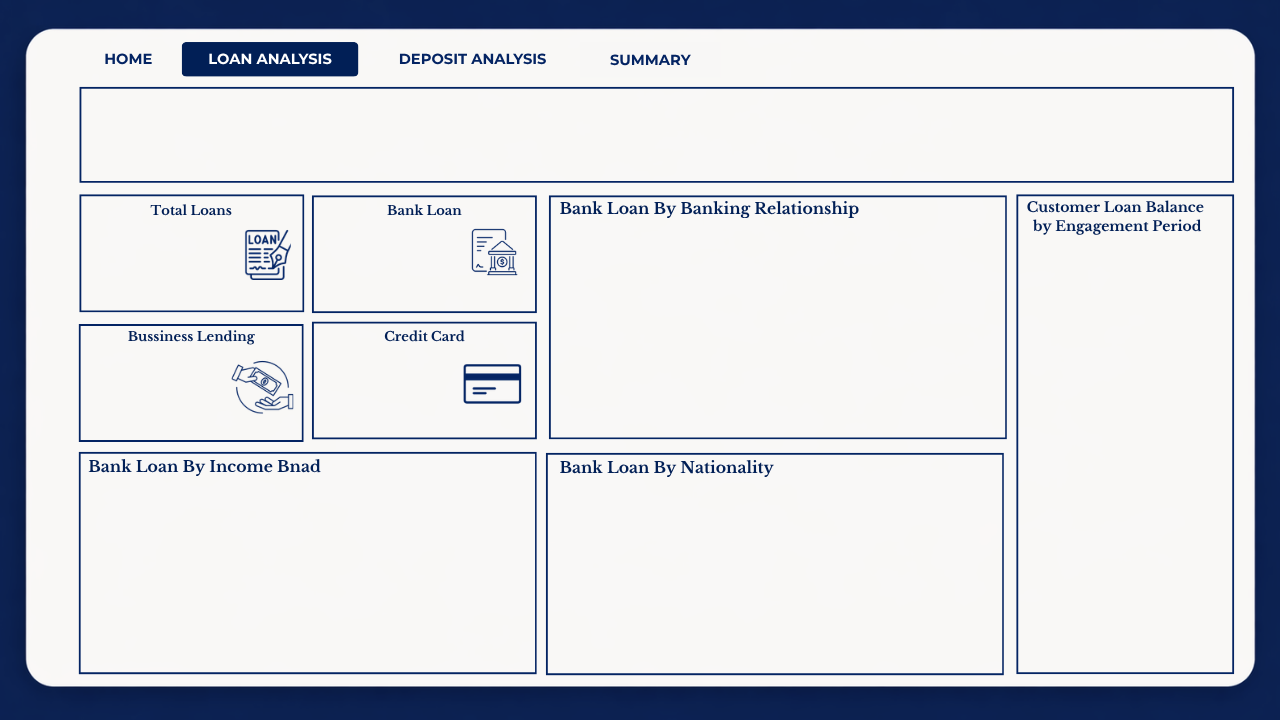

What the dashboard file says about the page in this screenshot:
{"tool":"powerbi","page":{"name":"Loan Analysis","canvas":[1280,720],"ordinal":1},"visuals":[{"type":"card","fields":{"Values":["public customer.Total Loans"]},"box":[75.3,214.8,172.8,71.6],"z":0},{"type":"card","fields":{"Values":["Sum(public customer.Bank Loans)"]},"box":[306.7,216,172.8,72],"z":1000},{"type":"card","fields":{"Values":["Sum(public customer.Business Lending)"]},"box":[76.3,342.7,172.8,72],"z":2000},{"type":"actionButton","box":[76.3,40.3,99.4,40.3],"z":3000},{"type":"actionButton","box":[380.2,40.3,175.7,40.3],"z":4000},{"type":"actionButton","box":[599,40.3,99.4,40.3],"z":5000},{"type":"card","fields":{"Values":["Sum(public customer.Credit Card Balance)"]},"box":[306.7,342.7,172.8,72],"z":6000},{"type":"donutChart","title":"Bank Loan By Income Band ","fields":{"Category":["public customer.Income Band"],"Y":["Sum(public customer.Bank Loans)"]},"box":[85.2,475.3,444.4,192.6],"z":7000},{"type":"clusteredColumnChart","title":"Bank Loan By Income Band ","fields":{"Category":["public customer.BRId"],"Y":["Sum(public customer.Bank Loans)"]},"box":[551.9,196.3,455.6,237],"z":8000},{"type":"treemap","fields":{"Values":["Sum(public customer.Bank Loans)"],"Group":["public customer.Nationality"]},"box":[546.9,475.3,454.3,192.6],"z":9000},{"type":"clusteredBarChart","title":"Bank Loan By Income Band ","fields":{"Category":["public customer.Engagement Timeframe"],"Y":["Sum(public customer.Bank Loans)","public customer.Total Loans"]},"box":[1016,248.1,228.4,419.8],"z":10000},{"type":"slicer","title":"Banking Relationship","fields":{"Values":["public customer.BRId"]},"box":[85.2,95.1,335.8,71.6],"z":11000},{"type":"slicer","title":"Gender","fields":{"Values":["public customer.GenderId"]},"box":[440.7,95.1,398.8,71.6],"z":12000},{"type":"slicer","title":"Investment Advisor","fields":{"Values":["public customer.IAId"]},"box":[851.9,100,366.7,66.7],"z":13000},{"type":"ChicletSlicer1448559807354","fields":{"Category":["Period Filter.Period"]},"box":[695.5,33.1,564.5,47.5],"z":14000}]}

Visuals, with their boxes in screenshot pixels (x1, y1, x2, y2), scaled from the page's 1280x720 canvas onto the 1280x720 screenshot:
card - public customer.Total Loans: crop(75, 215, 248, 286)
card - Sum(public customer.Bank Loans): crop(307, 216, 480, 288)
card - Sum(public customer.Business Lending): crop(76, 343, 249, 415)
actionButton: crop(76, 40, 176, 81)
actionButton: crop(380, 40, 556, 81)
actionButton: crop(599, 40, 698, 81)
card - Sum(public customer.Credit Card Balance): crop(307, 343, 480, 415)
"Bank Loan By Income Band " donutChart: crop(85, 475, 530, 668)
"Bank Loan By Income Band " clusteredColumnChart: crop(552, 196, 1008, 433)
treemap - Sum(public customer.Bank Loans) x public customer.Nationality: crop(547, 475, 1001, 668)
"Bank Loan By Income Band " clusteredBarChart: crop(1016, 248, 1244, 668)
"Banking Relationship" slicer: crop(85, 95, 421, 167)
"Gender" slicer: crop(441, 95, 840, 167)
"Investment Advisor" slicer: crop(852, 100, 1219, 167)
ChicletSlicer1448559807354 - Period Filter.Period: crop(696, 33, 1260, 81)
